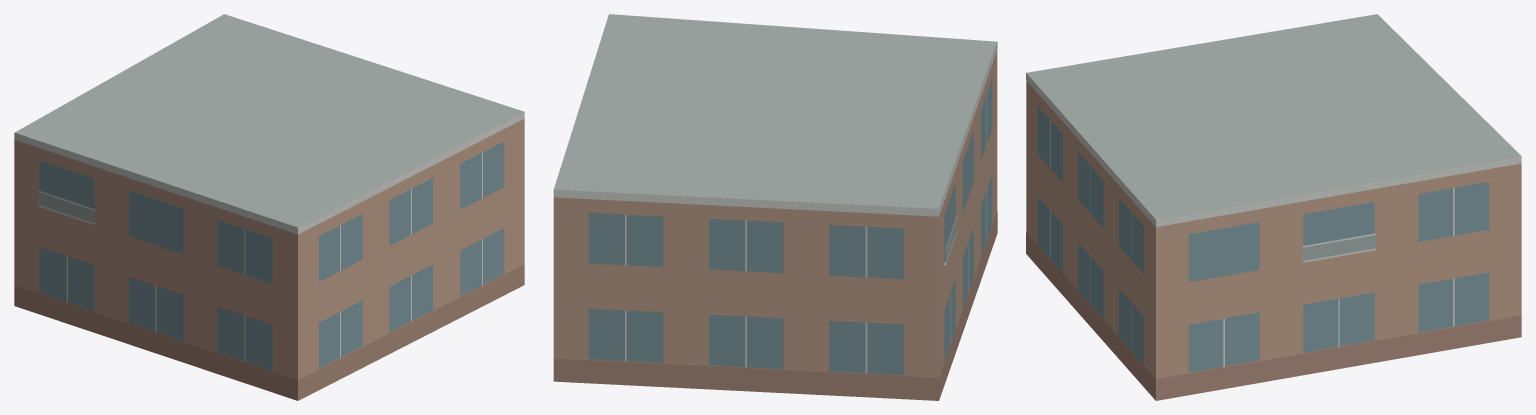
File: survey-upis-32673744.glb
3 renders of one model, left to right at view 1: azimuth 30°, elevation 25°; view 2: azimuth 150°, elevation 25°; view 3: azimuth 270°, elevation 25°, orthographic. The views are drawn at different scales.
Parts seen in each view (by area): view 1: survey-upis-32673744.tmp; view 2: survey-upis-32673744.tmp; view 3: survey-upis-32673744.tmp.
Boxes of the visible parts, bbox=[...] form: survey-upis-32673744.tmp: bbox=[14, 14, 524, 400]; survey-upis-32673744.tmp: bbox=[553, 14, 997, 400]; survey-upis-32673744.tmp: bbox=[1026, 14, 1521, 400].
Size of the model in its own units: 14.9 by 6.1 by 15.15.
